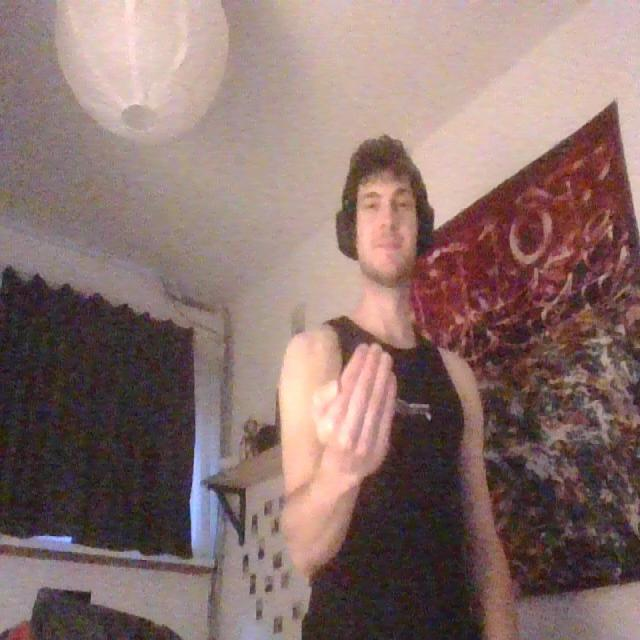forward: (309, 332, 401, 488)
